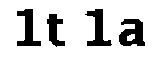1: (81, 6, 115, 51), (14, 9, 43, 48)
a: (119, 18, 150, 51)
t: (46, 11, 71, 51)
